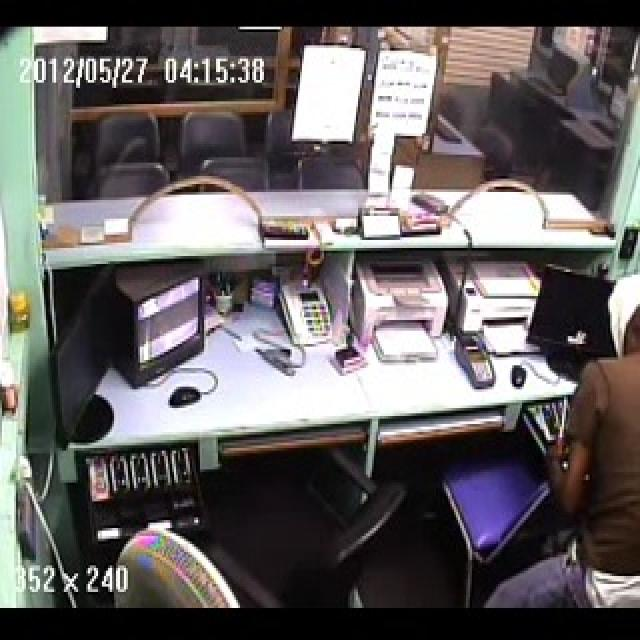thief: (536, 292, 640, 622)
